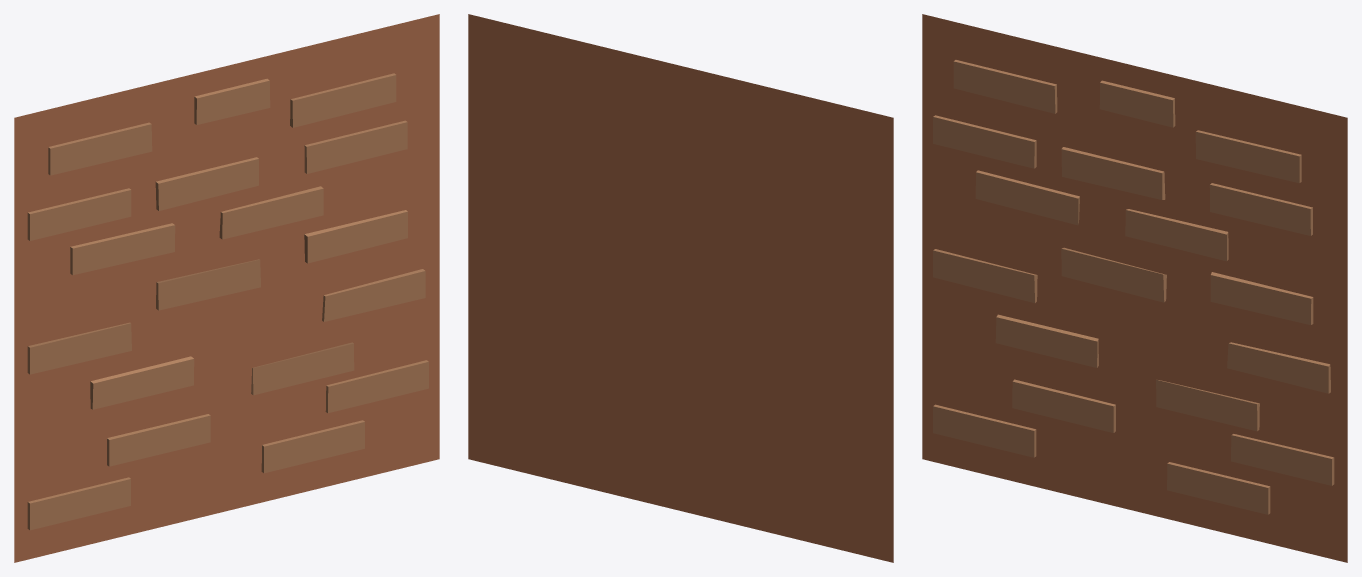
Rendered from Ext-BrickV3.fbx.
3 renders of one model, left to right at view 1: azimuth 30°, elevation 25°; view 2: azimuth 150°, elevation 25°; view 3: azimuth 330°, elevation 25°, orthographic.
Parts seen in each view (by area): view 1: Ext-BrickV3; view 2: Ext-BrickV3; view 3: Ext-BrickV3.
Part boxes in pixels (x1=…): Ext-BrickV3: x1=14, y1=14, x2=439, y2=562; Ext-BrickV3: x1=468, y1=14, x2=893, y2=562; Ext-BrickV3: x1=922, y1=14, x2=1347, y2=562.
Bounding box in the file's own units: 200 × 200 × 2.
